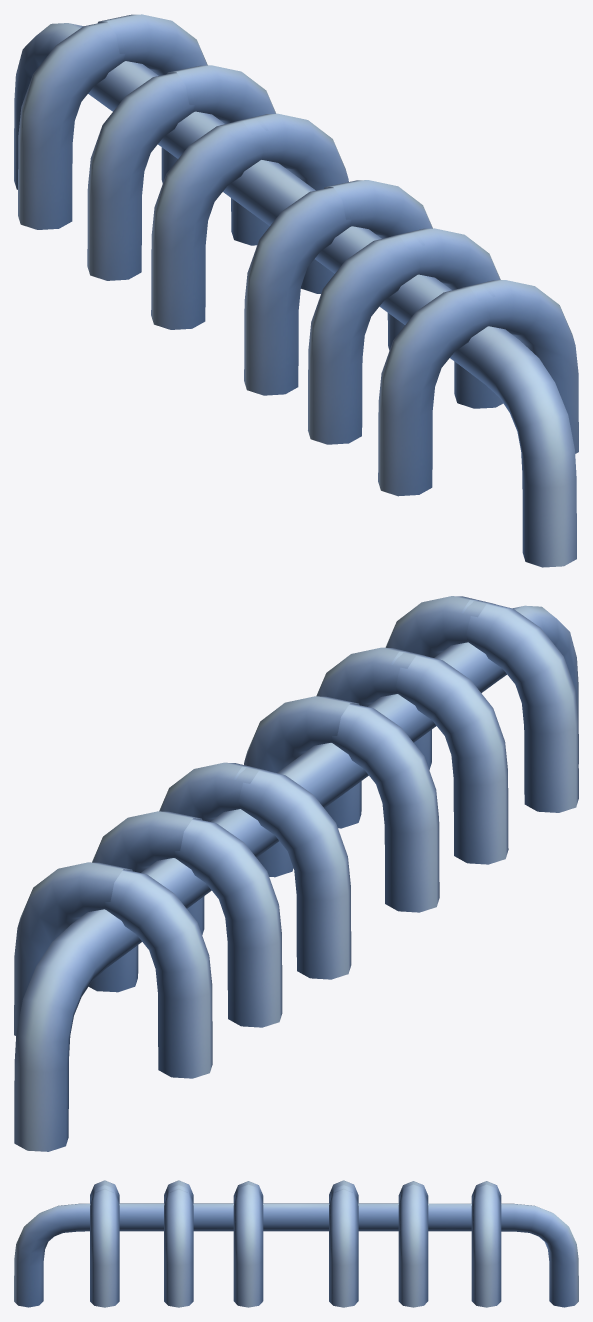
The model's file is Lock_3.fbx.
3 renders of one model, top to bottom at view 1: azimuth 30°, elevation 25°; view 2: azimuth 150°, elevation 25°; view 3: azimuth 270°, elevation 25°, orthographic. The views are drawn at different scales.
Parts seen in each view (by area): view 1: lock_3; view 2: lock_3; view 3: lock_3.
Part boxes in pixels (bbox=[...]): lock_3: bbox=[14, 14, 578, 567]; lock_3: bbox=[14, 596, 578, 1151]; lock_3: bbox=[14, 1180, 578, 1307].
Bounding box in the file's own units: 0.682 × 0.7279 × 3.25.
